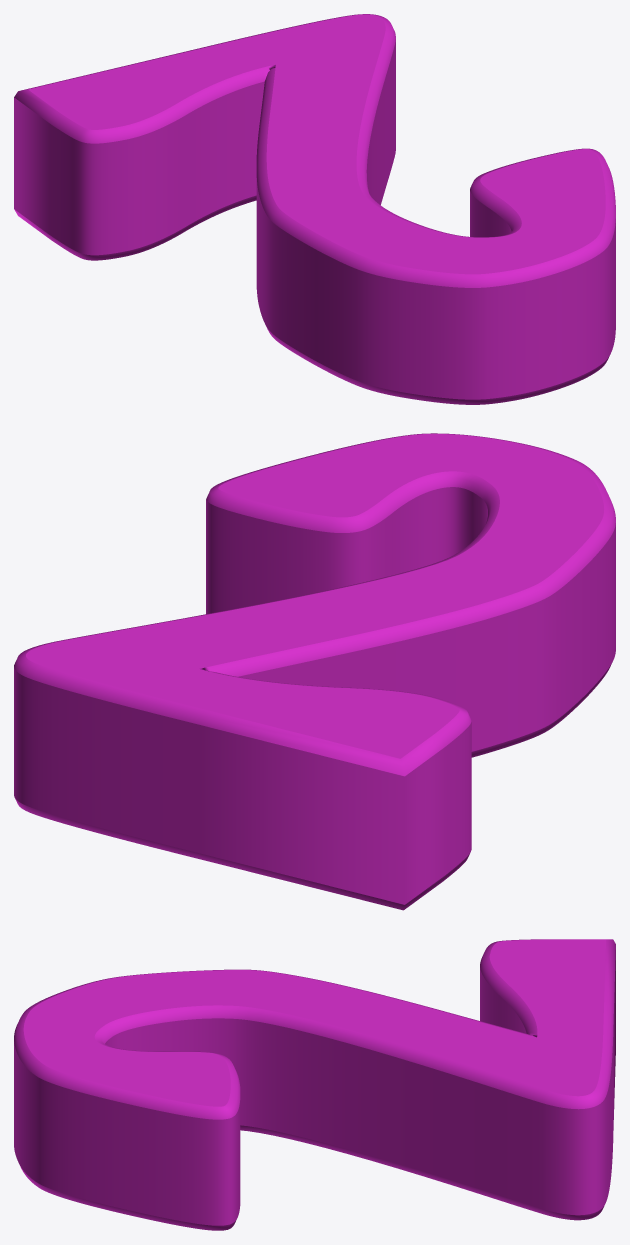
The model's file is Bubble_Number2.fbx.
3 renders of one model, top to bottom at view 1: azimuth 30°, elevation 25°; view 2: azimuth 150°, elevation 25°; view 3: azimuth 270°, elevation 25°, orthographic. The views are drawn at different scales.
Parts seen in each view (by area): view 1: BubbleNumber_2; view 2: BubbleNumber_2; view 3: BubbleNumber_2.
Part boxes in pixels (x1,y1,x2,y2): BubbleNumber_2: (14, 14, 615, 404); BubbleNumber_2: (14, 433, 615, 910); BubbleNumber_2: (14, 939, 615, 1230).
Bounding box in the file's own units: 0.4258 × 0.14 × 0.6173.
